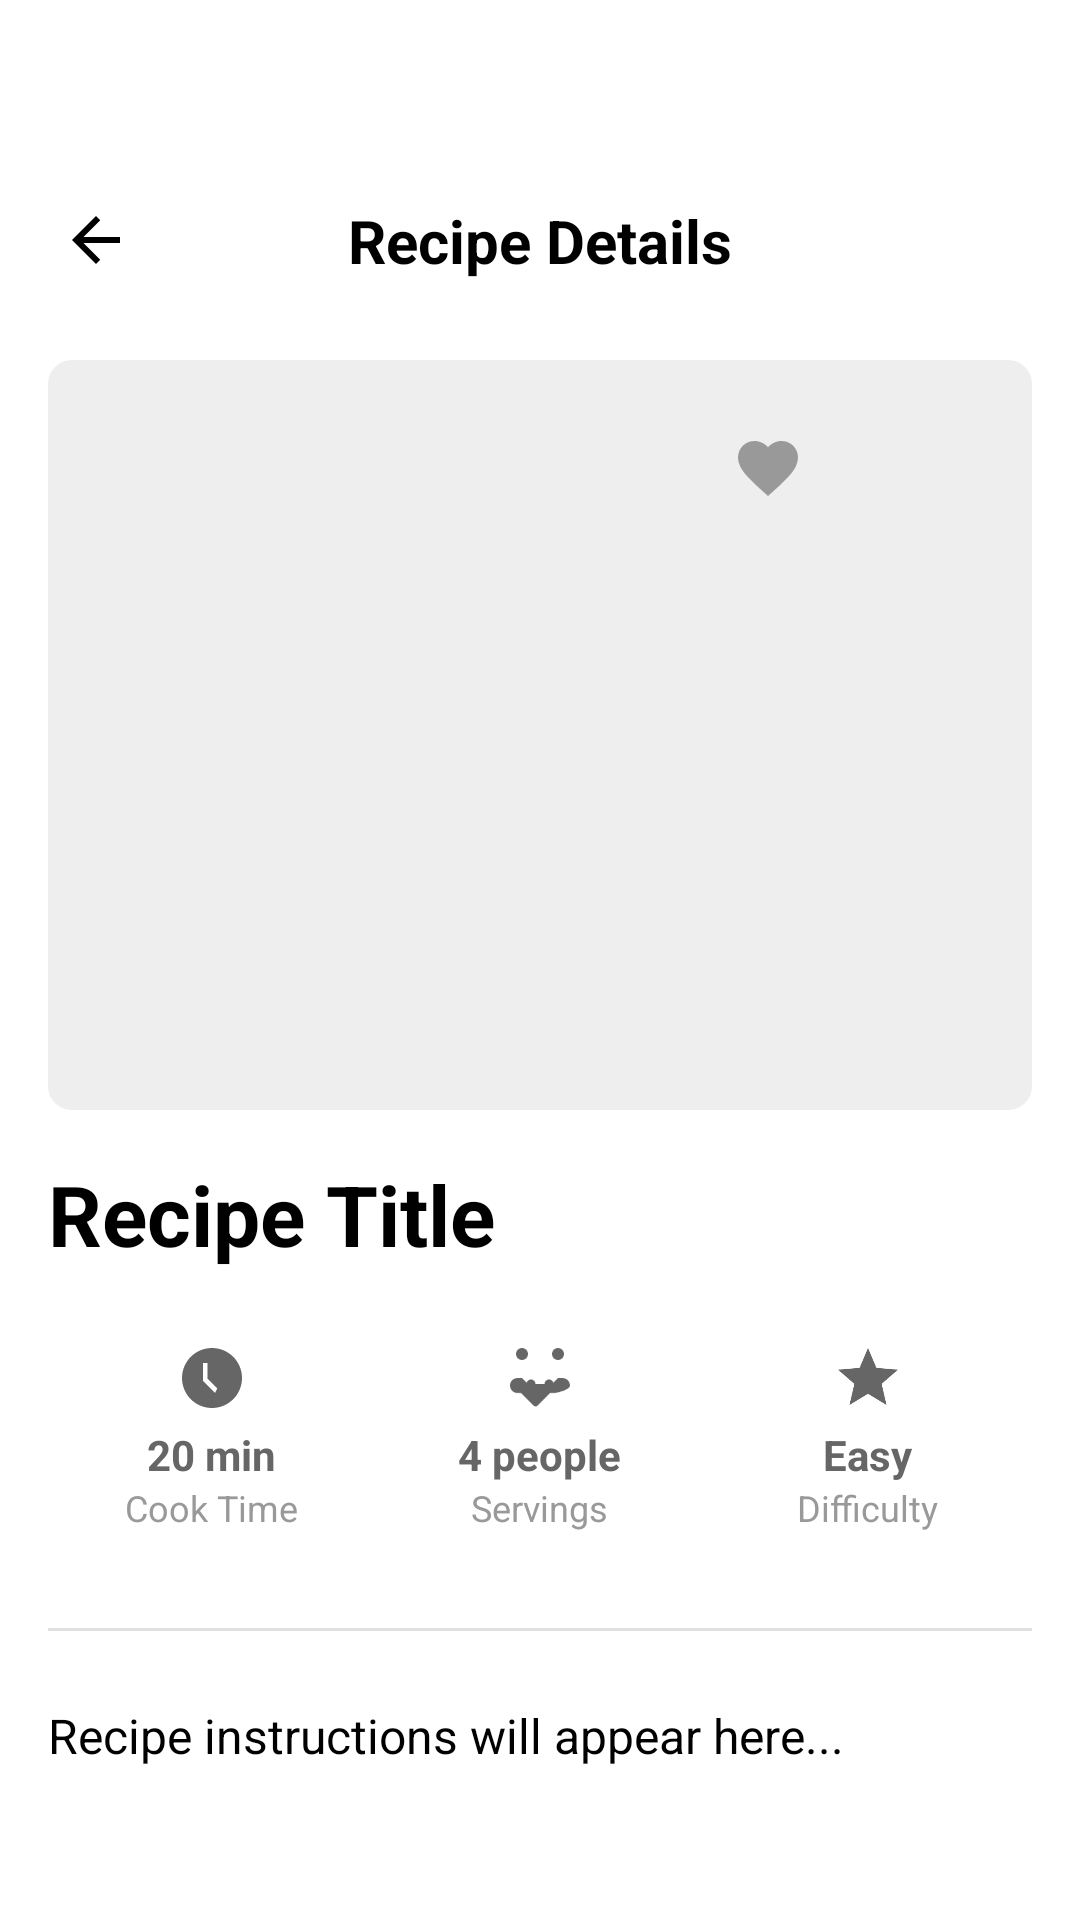

Locate icon controls on the screen. Image size 1080px x 1920px, boxes as (x1,y1,x2,y2).
Add to favorites: (738,441,798,496)
Back: (72,216,120,264)
clock: (182,1348,242,1408)
